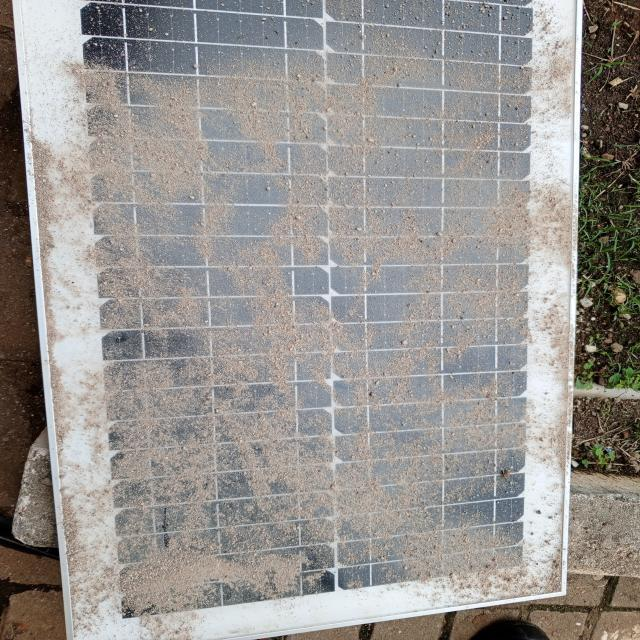Surface Contaminant: (96, 17, 558, 589)
